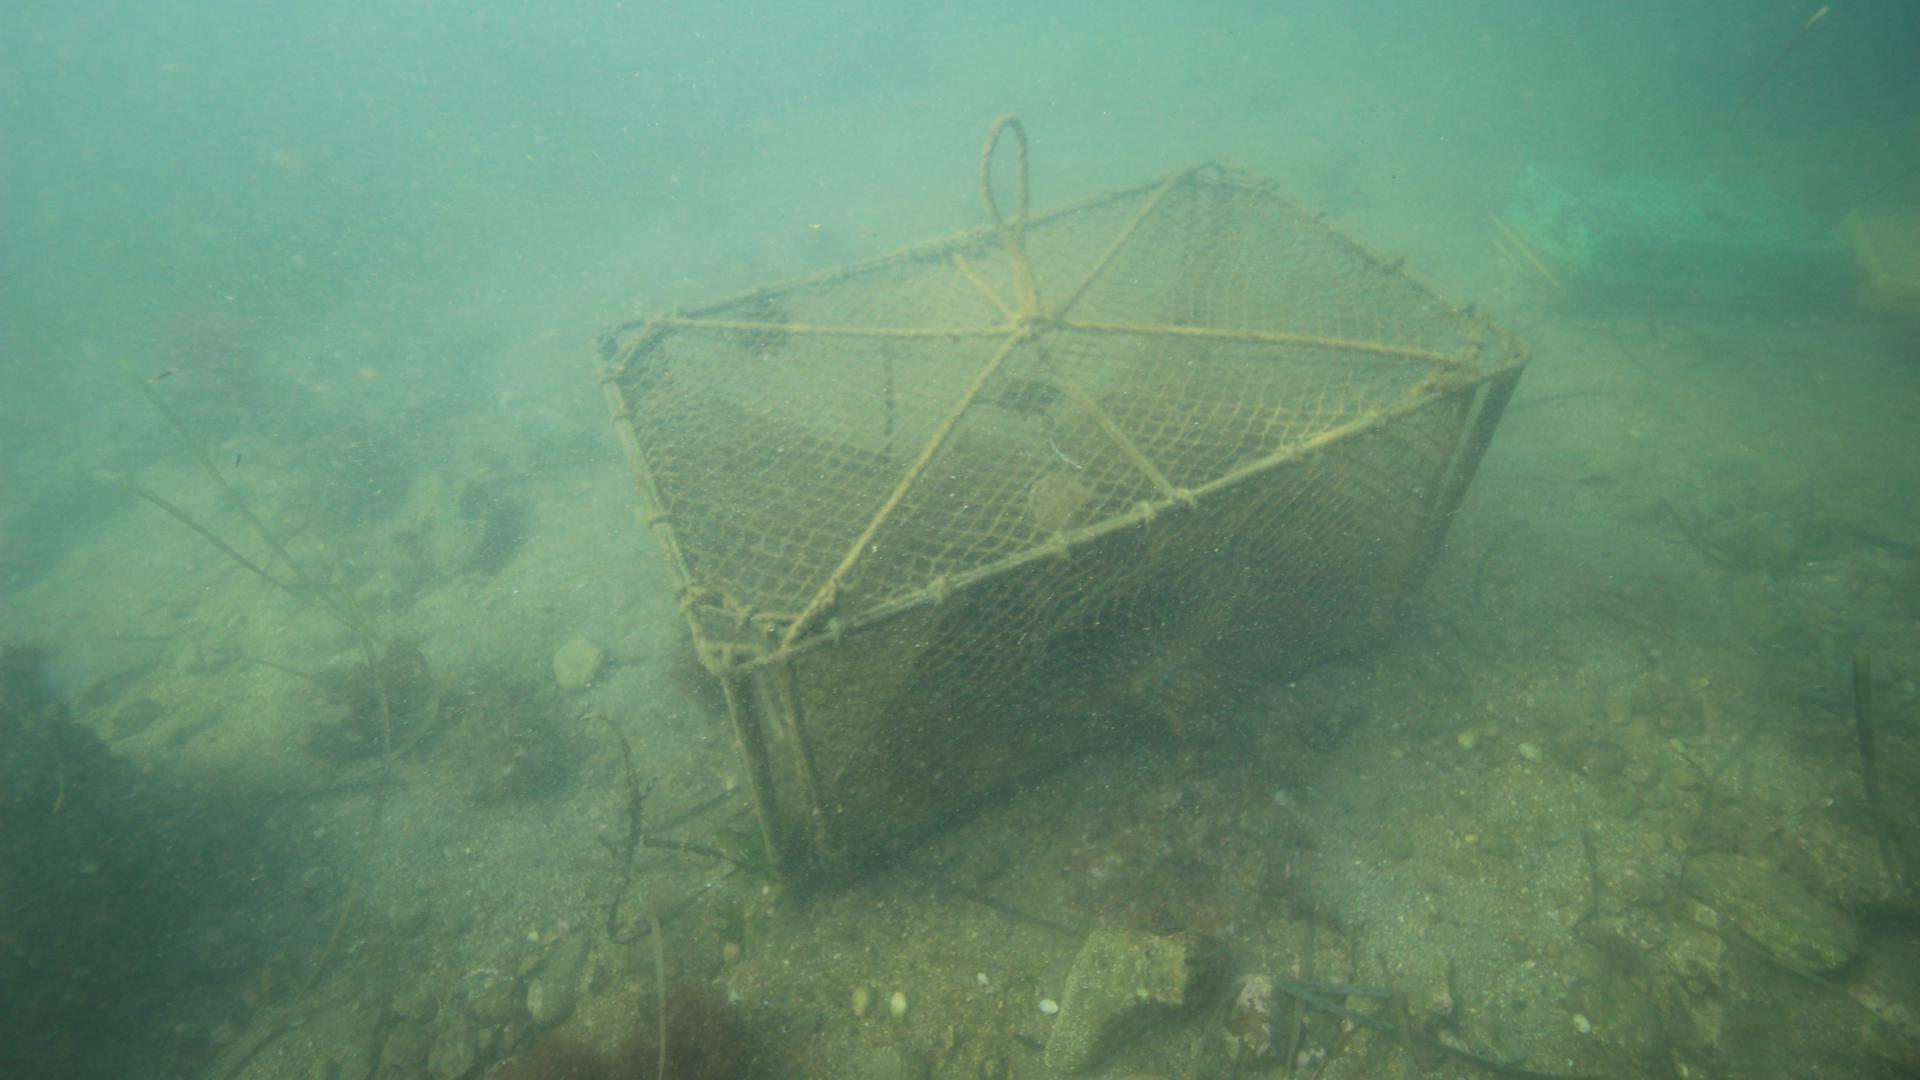rectangular fish trap: (588, 157, 1535, 884)
